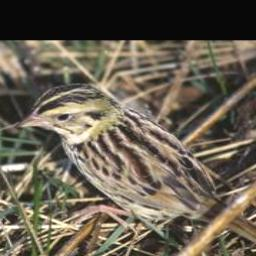Sparrow: (13, 79, 256, 256)
